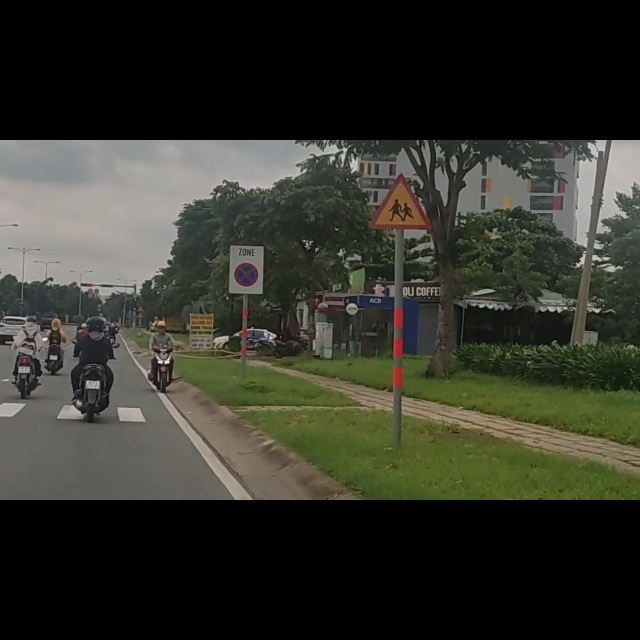bien_nguy_hiem: (369, 58, 433, 161), (234, 217, 259, 261), (19, 294, 25, 303), (19, 283, 24, 293)
